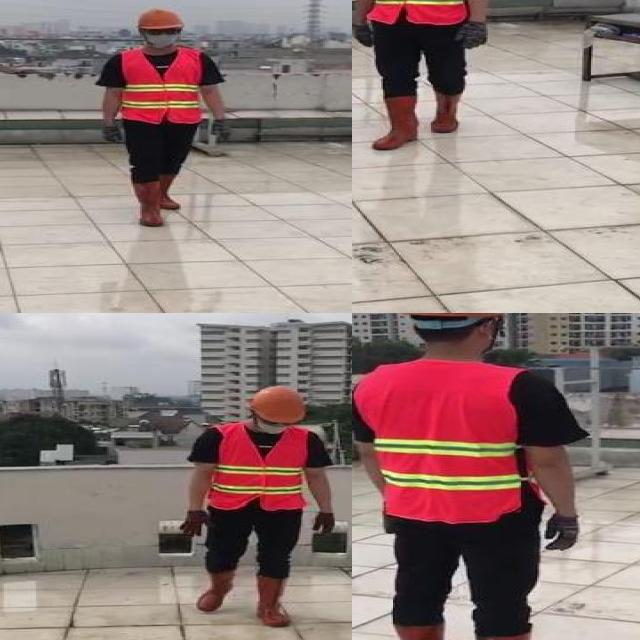boots: (374, 93, 422, 153), (255, 574, 297, 627), (194, 568, 235, 613), (131, 177, 165, 227), (429, 91, 463, 132), (158, 171, 186, 210), (392, 626, 458, 640)
face_mask: (250, 412, 298, 437), (141, 27, 182, 47)
glasses: (141, 26, 184, 38)
hand_glove: (539, 514, 583, 552), (454, 22, 490, 49), (180, 511, 216, 537), (352, 23, 376, 51), (210, 119, 236, 144), (312, 511, 336, 537), (101, 123, 122, 146)
head_helmet: (251, 384, 305, 424), (130, 8, 191, 31)
person: (352, 313, 585, 640), (172, 383, 339, 633), (95, 4, 237, 230), (352, 0, 503, 151)
vest: (354, 360, 530, 524), (210, 426, 304, 511), (120, 49, 200, 122), (361, 0, 466, 25)
